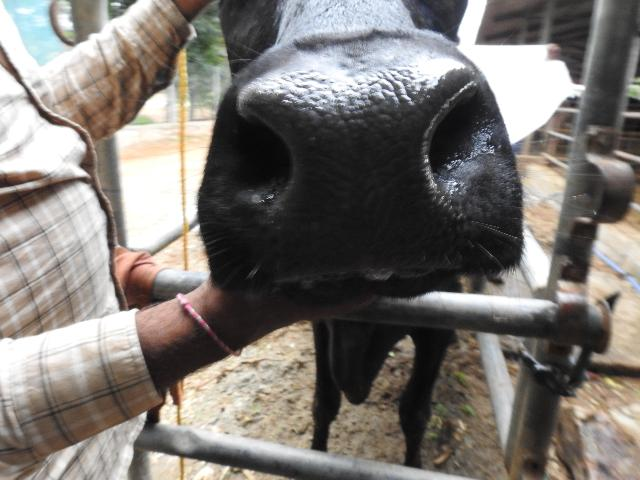Muzzle: (288, 77, 432, 273)
